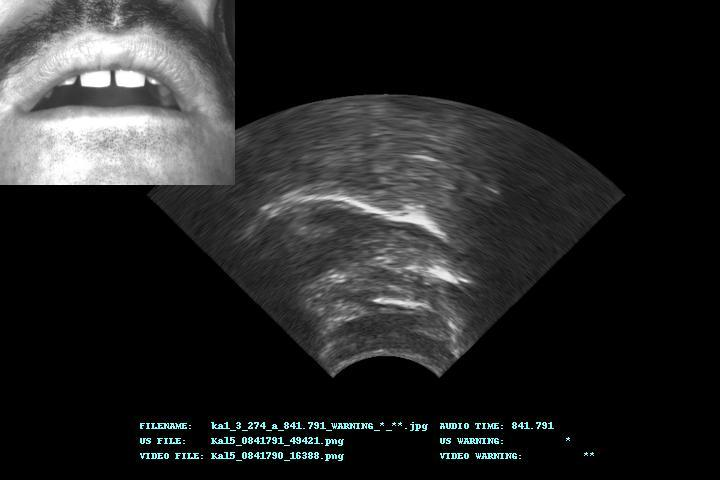-a-: (153, 97, 623, 376)
